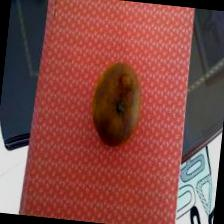Orange Rotten: (80, 58, 156, 156)
